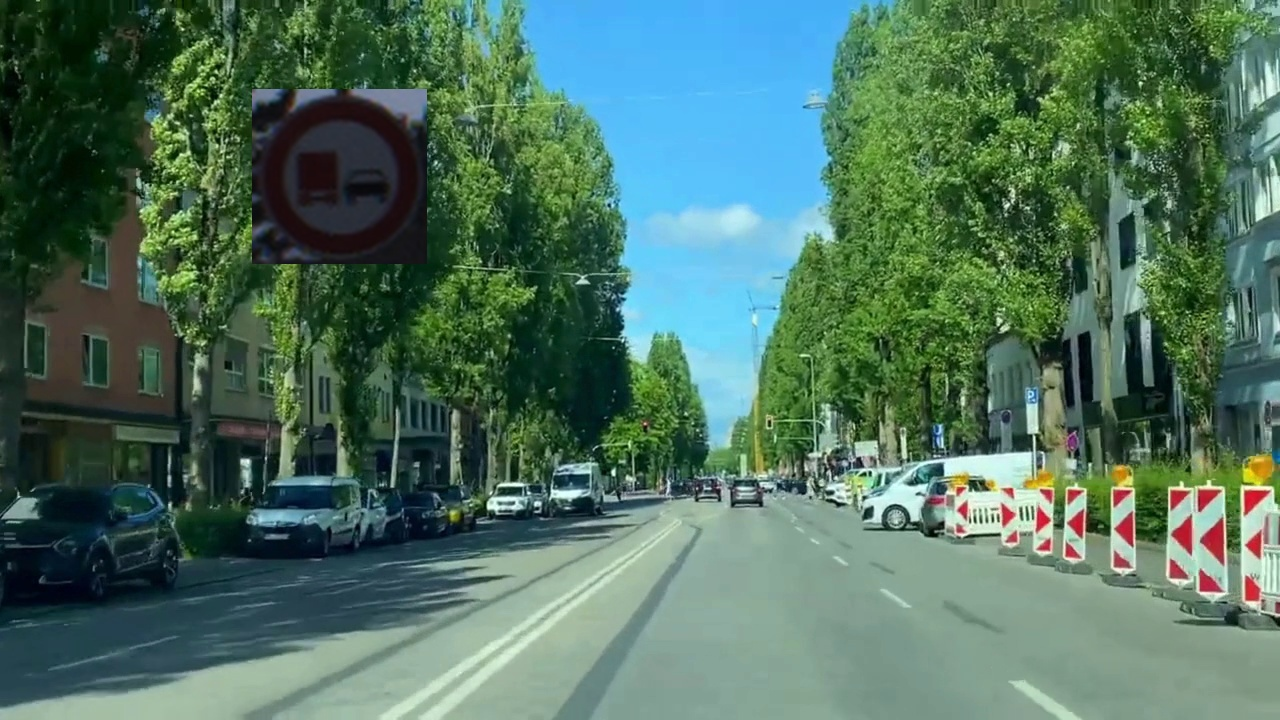No pass >3.5t: (252, 89, 427, 264)
